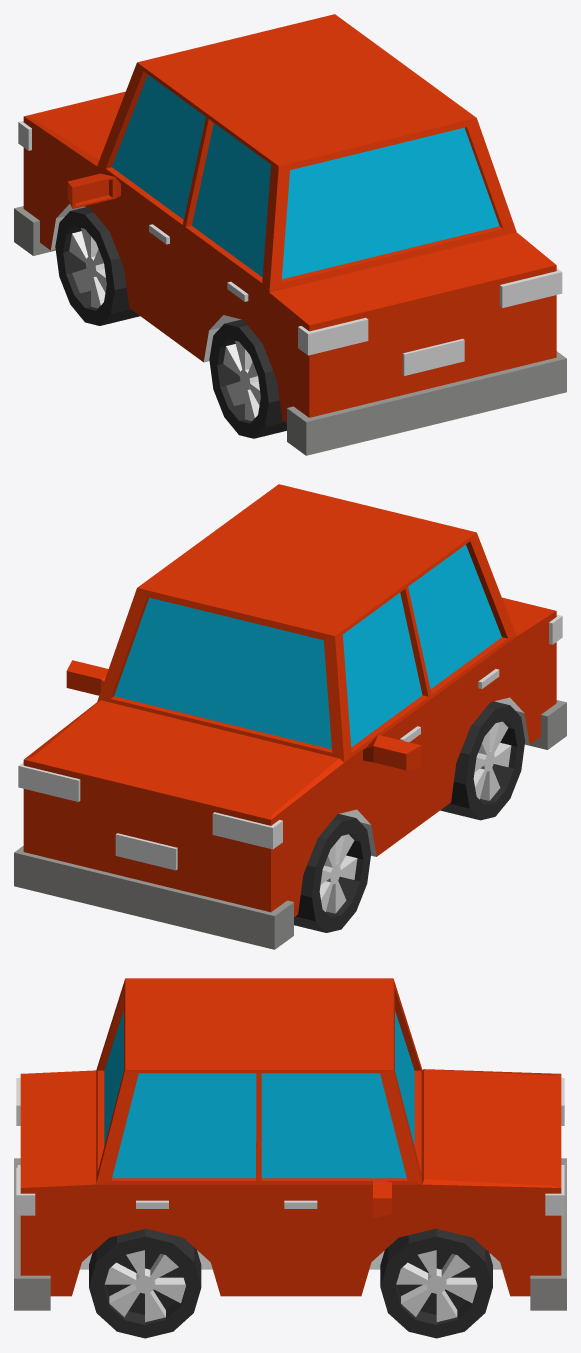
File: carro vermelho.fbx
3 renders of one model, top to bottom at view 1: azimuth 30°, elevation 25°; view 2: azimuth 150°, elevation 25°; view 3: azimuth 270°, elevation 25°, orthographic. The views are drawn at different scales.
Parts seen in each view (by area): view 1: carro, lataria t, Cilindro.002, Cilindro.010, lantern 1 T, lanterna 2 t, placa 2, lanterna 2 f.004, lataria f; view 2: carro, lataria f, Cilindro.010, Cilindro.002, lanterna 2 f.004, lanterna 1 f, lanterna 2 f, placa 1, lataria t; view 3: carro, Cilindro.002, Cilindro.010, lataria t, lataria f, lanterna 2 f.004, lanterna 2 t, lanterna 2 f.
Boxes of the visible parts, bbox=[...] form: carro: bbox=[23, 14, 556, 422]; lataria t: bbox=[287, 351, 566, 455]; Cilindro.002: bbox=[55, 207, 139, 325]; Cilindro.010: bbox=[209, 319, 286, 438]; lantern 1 T: bbox=[298, 317, 368, 355]; lanterna 2 t: bbox=[499, 268, 562, 308]; placa 2: bbox=[402, 338, 464, 375]; lanterna 2 f.004: bbox=[67, 173, 120, 208]; lataria f: bbox=[14, 206, 55, 255]; carro: bbox=[23, 484, 556, 916]; lataria f: bbox=[14, 846, 293, 949]; Cilindro.010: bbox=[440, 701, 525, 820]; Cilindro.002: bbox=[294, 814, 370, 932]; lanterna 2 f.004: bbox=[66, 660, 421, 770]; lanterna 1 f: bbox=[212, 812, 282, 849]; lanterna 2 f: bbox=[18, 762, 80, 801]; placa 1: bbox=[115, 833, 177, 870]; lataria t: bbox=[525, 700, 566, 749]; carro: bbox=[20, 978, 561, 1296]; Cilindro.002: bbox=[380, 1228, 492, 1338]; Cilindro.010: bbox=[89, 1228, 201, 1338]; lataria t: bbox=[14, 1158, 50, 1310]; lataria f: bbox=[530, 1158, 566, 1310]; lanterna 2 f.004: bbox=[373, 1178, 391, 1218]; lanterna 2 t: bbox=[16, 1167, 35, 1215]; lanterna 2 f: bbox=[545, 1167, 564, 1215].
Bounding box in the file's own units: 282 × 208 × 409.
